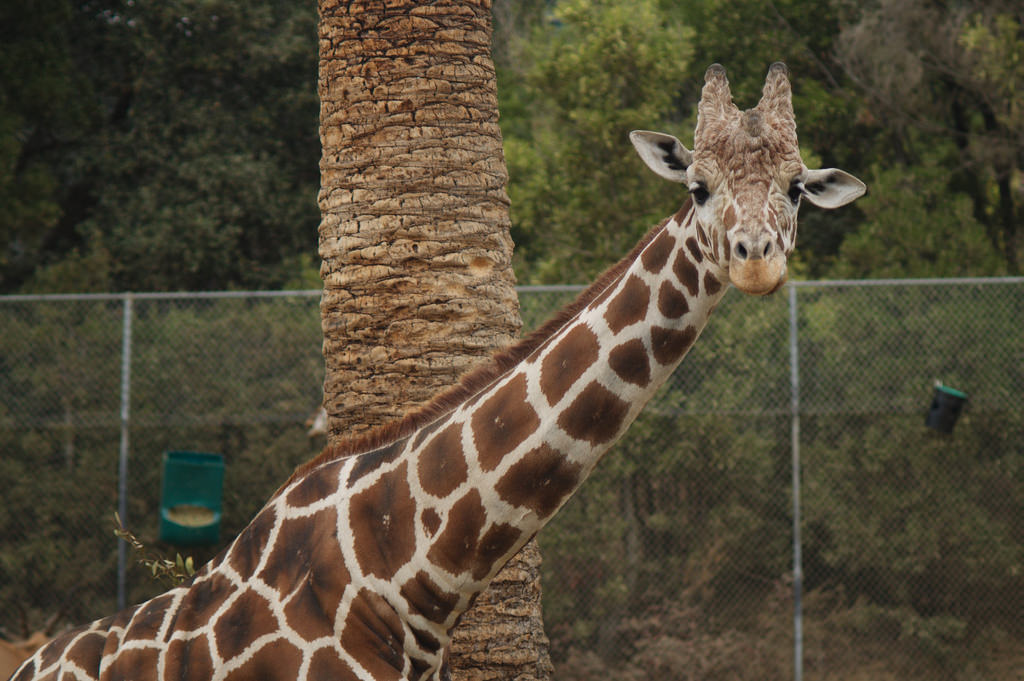giraffe: (60, 70, 877, 674)
